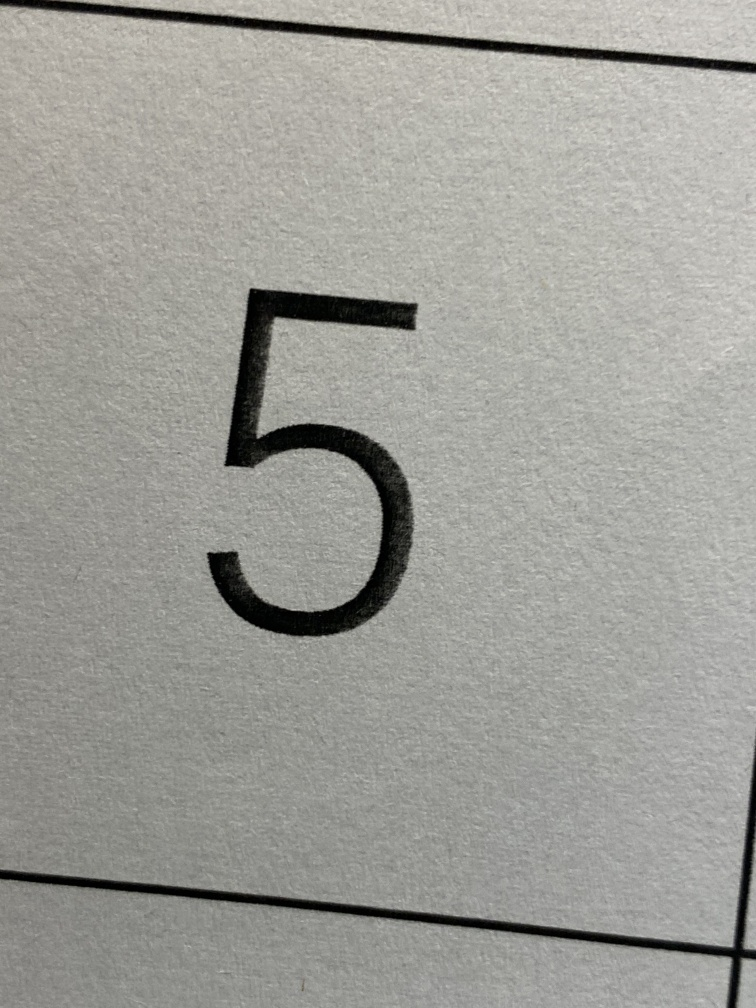five: (165, 216, 491, 694)
